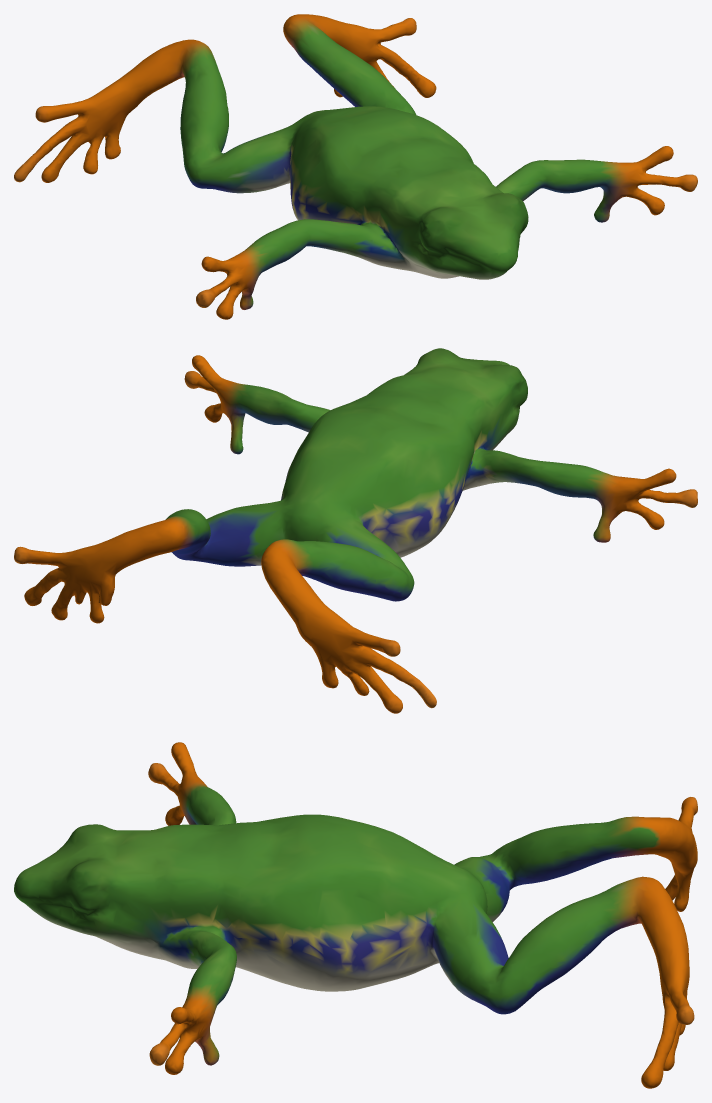
The model's file is redeye.swim.glb.
The picture shows the model from 3 angles, top to bottom: view 1: azimuth 30°, elevation 25°; view 2: azimuth 150°, elevation 25°; view 3: azimuth 270°, elevation 25°; orthographic projection. The views are drawn at different scales.
Parts seen in each view (by area): view 1: redeye.swim; view 2: redeye.swim; view 3: redeye.swim.
Part boxes in pixels (bbox=[...]): redeye.swim: bbox=[14, 14, 697, 319]; redeye.swim: bbox=[14, 348, 697, 713]; redeye.swim: bbox=[14, 742, 697, 1088].
Size of the model in its own units: 0.0932 by 0.0234 by 0.0939.
